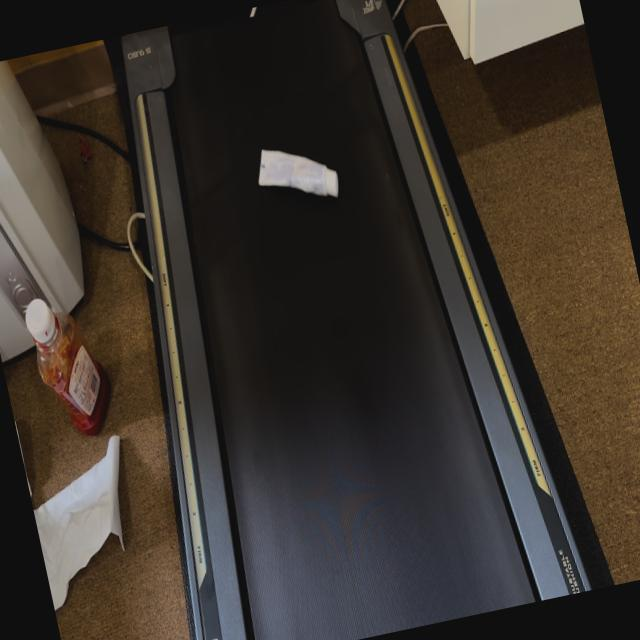Trash: (248, 128, 344, 218)
